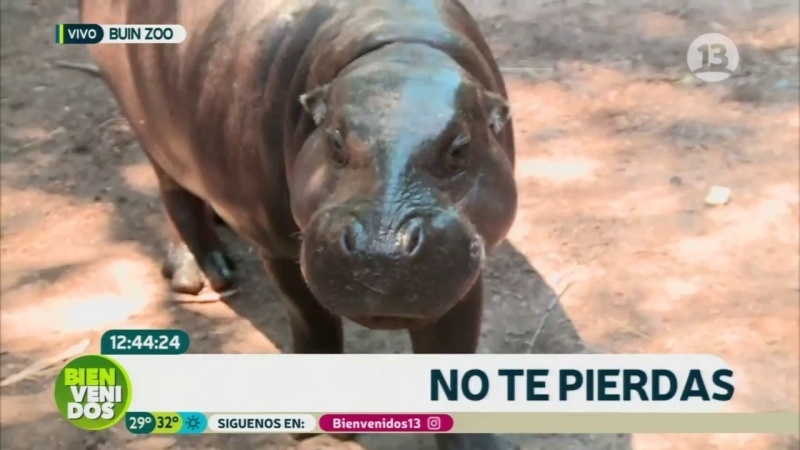hipopotamo: (62, 1, 548, 351)
